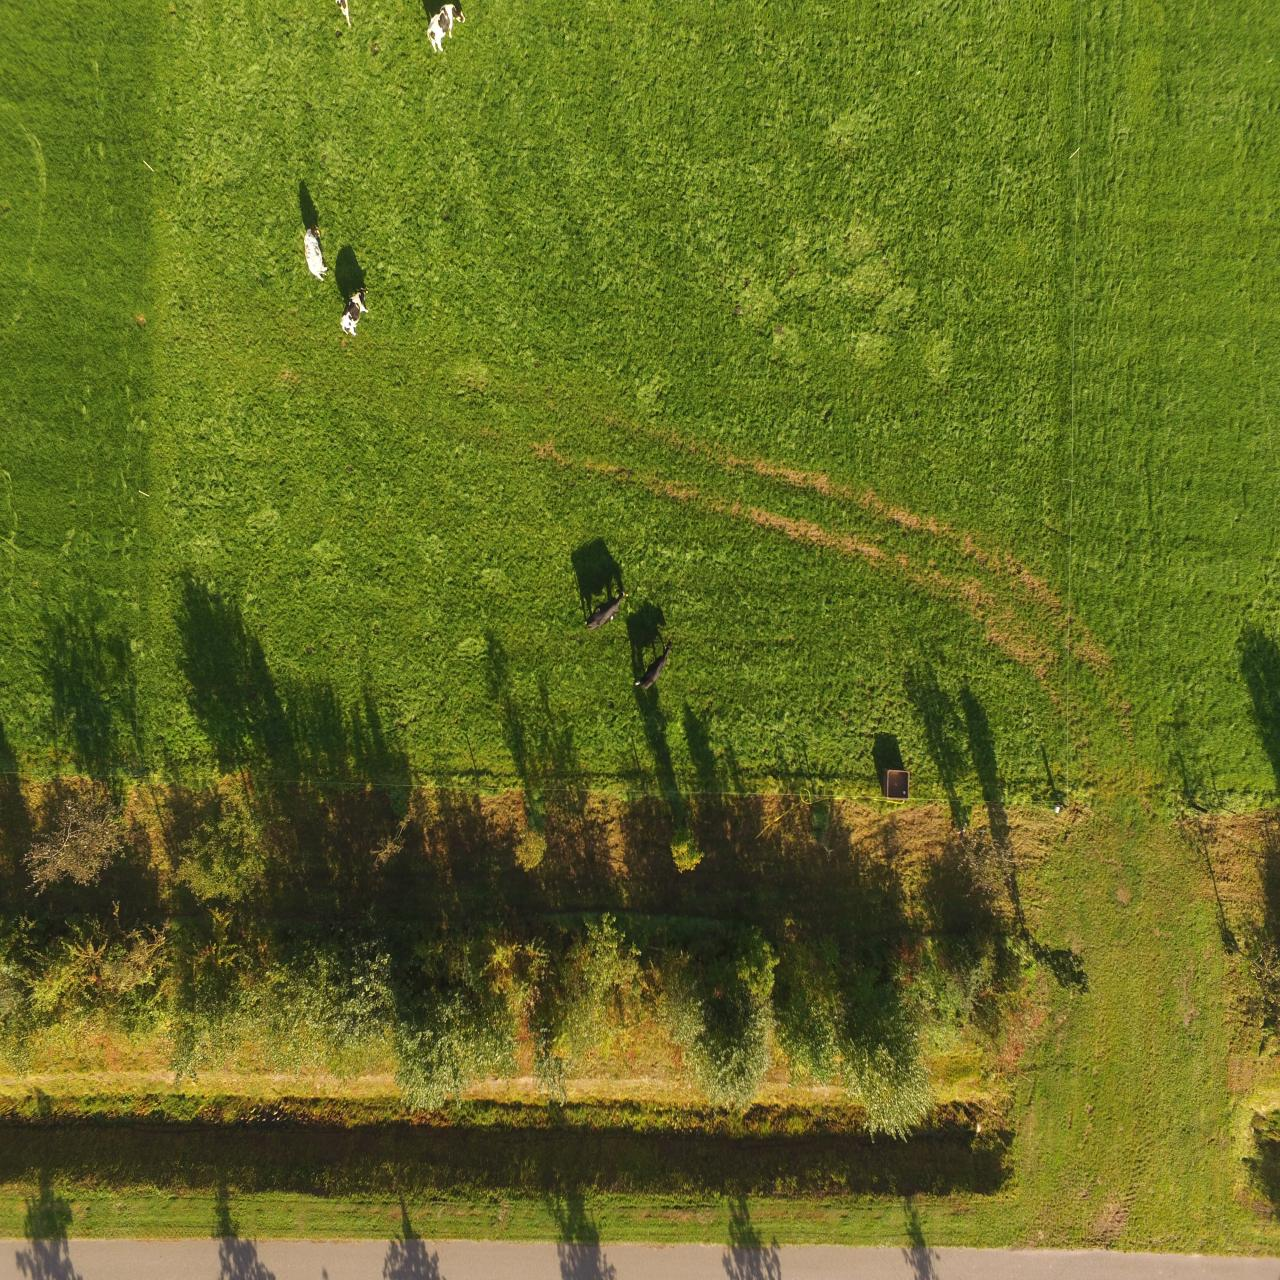cow: (422, 0, 468, 53), (338, 279, 370, 345), (585, 591, 634, 632), (632, 642, 672, 692), (299, 224, 327, 279)
